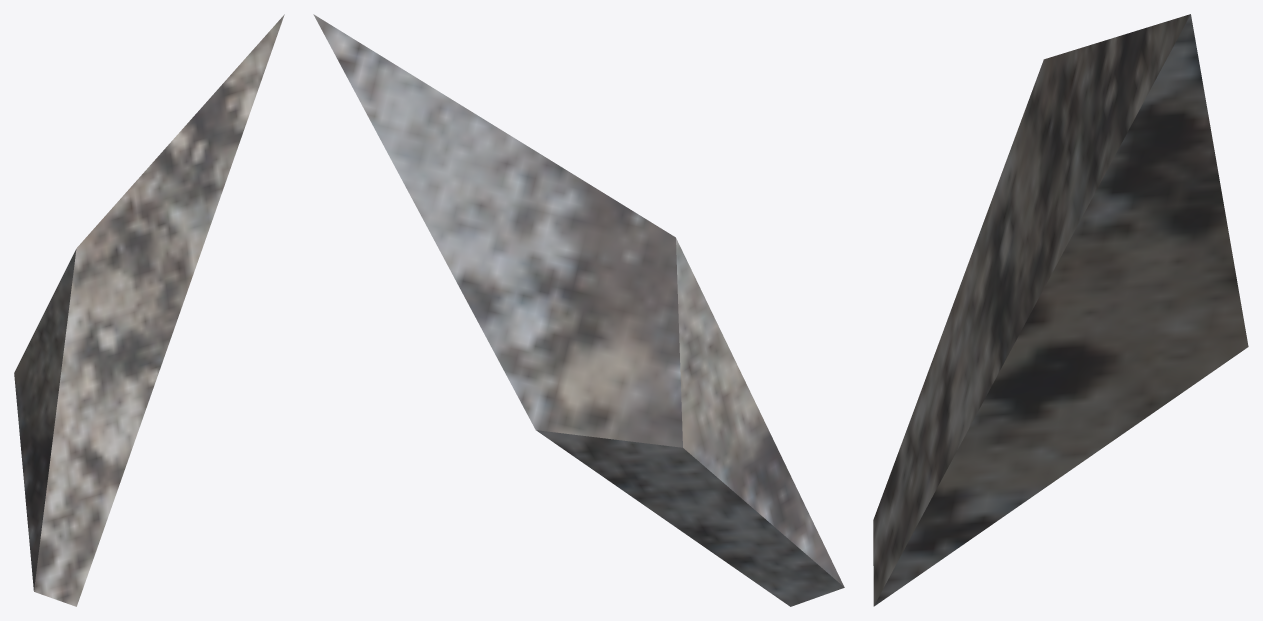
Rendered from Asteroid_Large_001_02_012_03_015.fbx.
The picture shows the model from 3 angles, left to right: view 1: azimuth 30°, elevation 25°; view 2: azimuth 150°, elevation 25°; view 3: azimuth 270°, elevation 25°; orthographic projection. The views are drawn at different scales.
Visible parts, largest first — view 1: Asteroid_Large_001_02_012_03_015; view 2: Asteroid_Large_001_02_012_03_015; view 3: Asteroid_Large_001_02_012_03_015.
Boxes of the visible parts, x1,y1,x2,y2 form: Asteroid_Large_001_02_012_03_015: [14, 14, 284, 606]; Asteroid_Large_001_02_012_03_015: [313, 14, 844, 606]; Asteroid_Large_001_02_012_03_015: [873, 14, 1248, 606].
Bounding box in the file's own units: 3.08 × 4.03 × 1.59.
